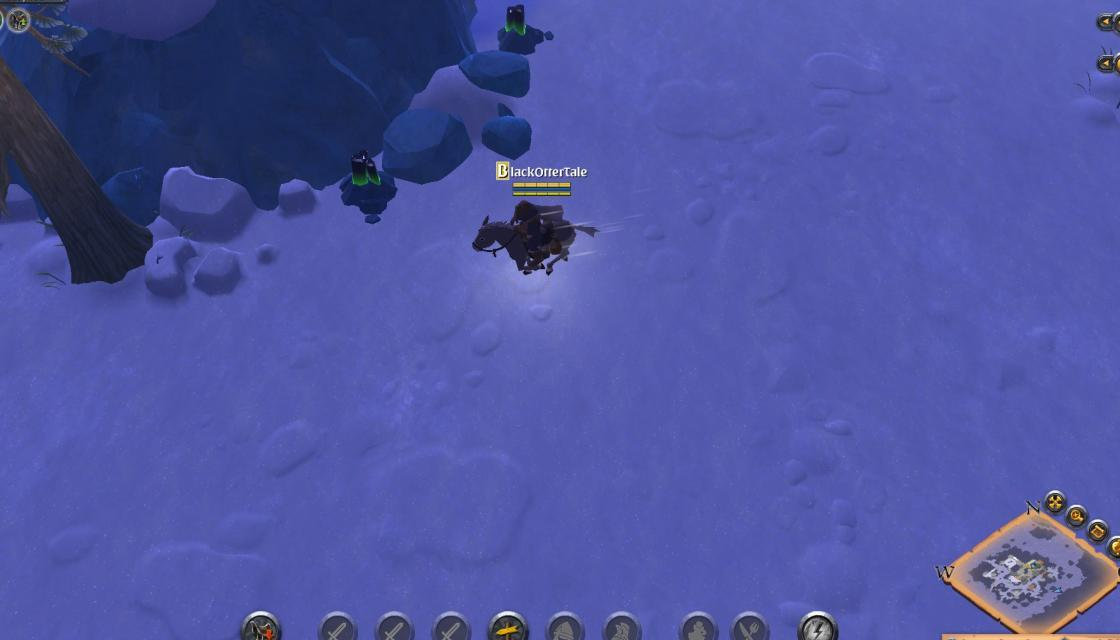tinore: (334, 148, 396, 214), (493, 0, 547, 62)
